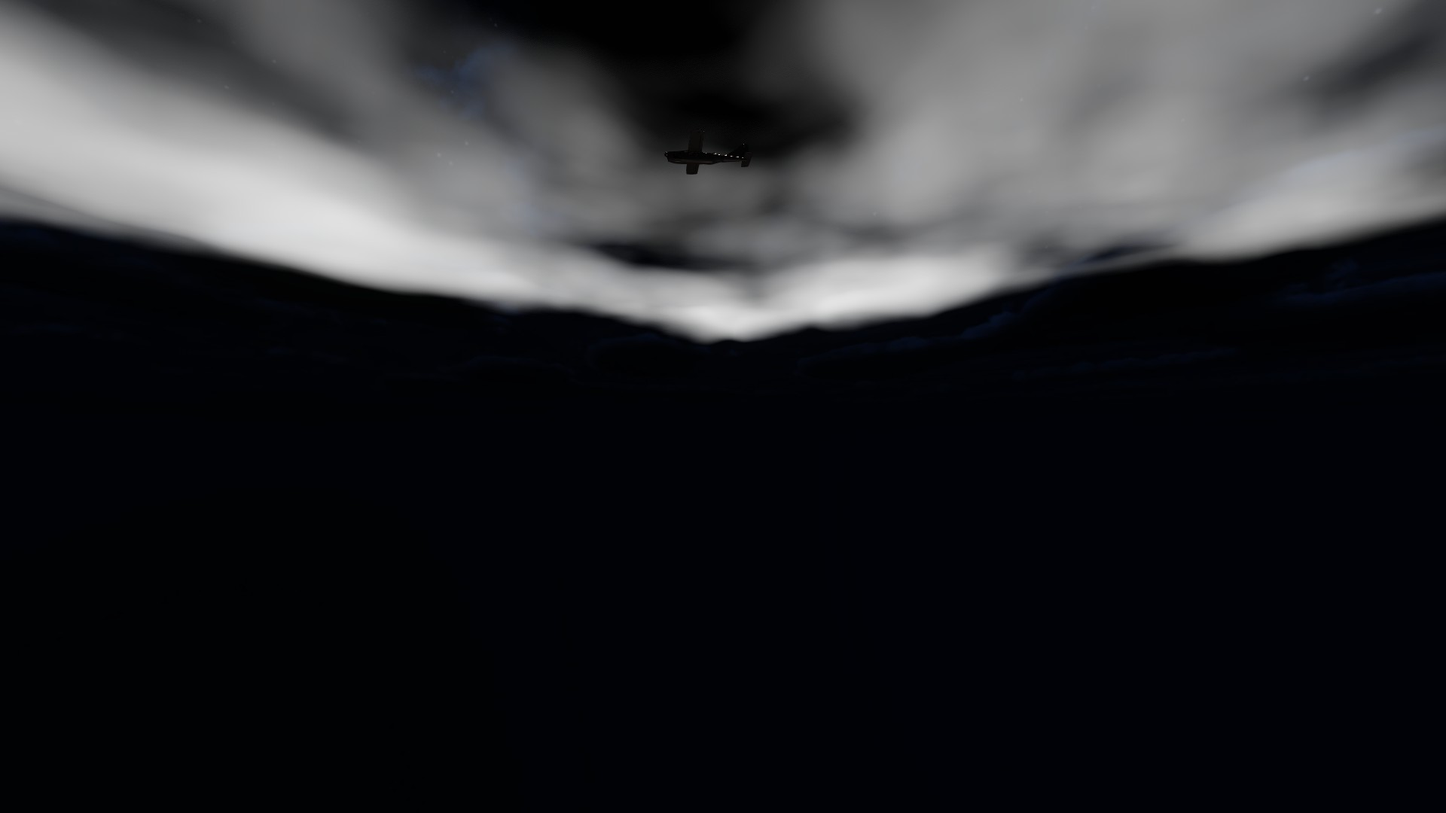drone_other: (664, 129, 753, 175)
